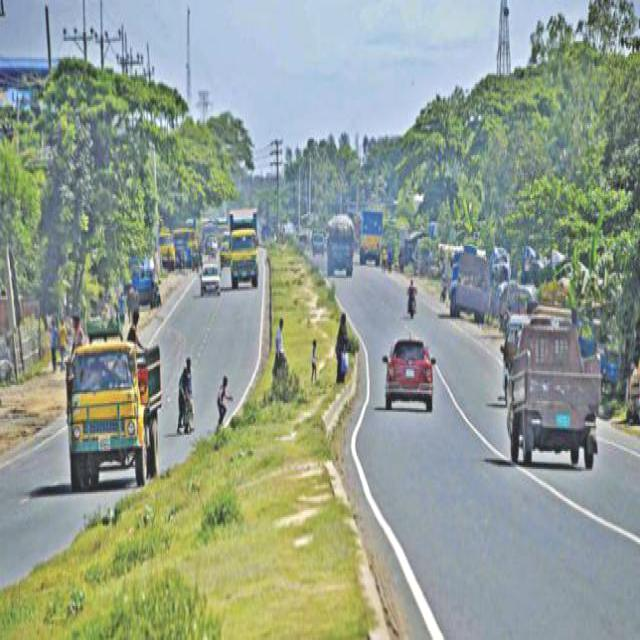red: (385, 342, 434, 412)
